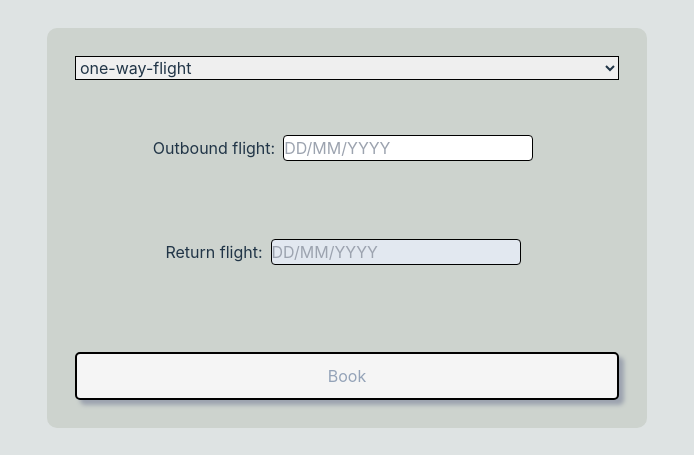
Test: FlightBooker component › should create a booking message for outbound and return flights with correct date
Select "return flights" in the dropdown at (347, 68), box [75,56,619,80]
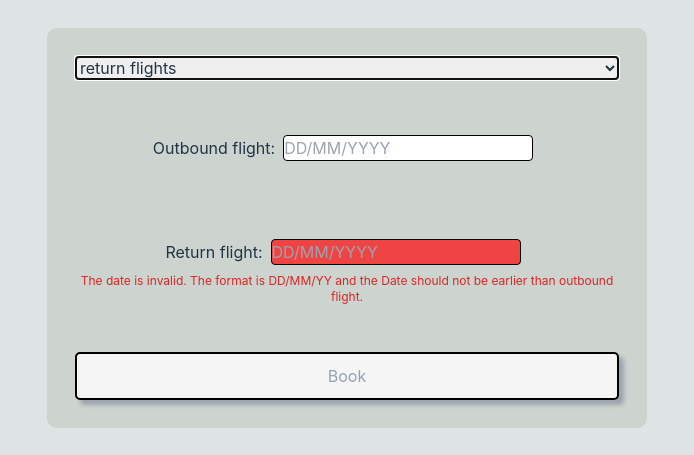
Type "18/12/2024" into the field named "outbound date".
click(408, 148); type("18/12/2024")  # box [283,135,533,161]
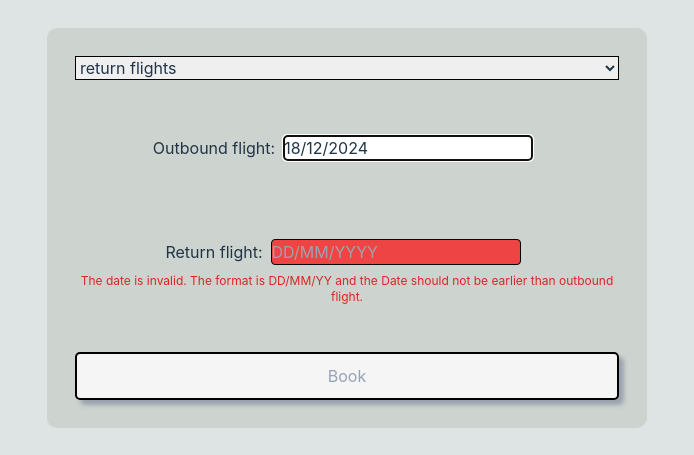
Type "30/12/2024" into the field named "return date".
click(396, 252); type("30/12/2024")  # box [270,239,520,265]
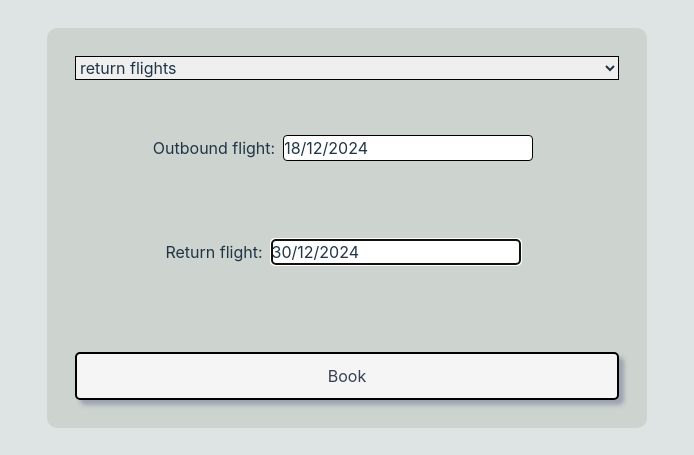
Click the button.
click(347, 376)  # box [75,352,619,400]
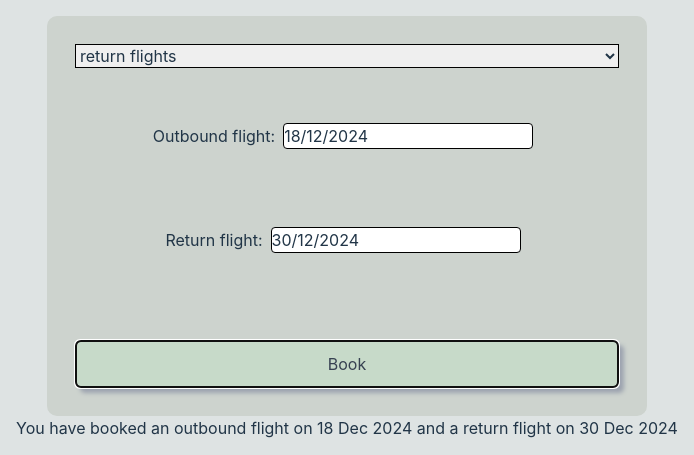
Check: the text named "message" shows "You have booked an outbound flight on 18 Dec 2024 and a return flight on 30 Dec 2024", box [16,418,678,438]
